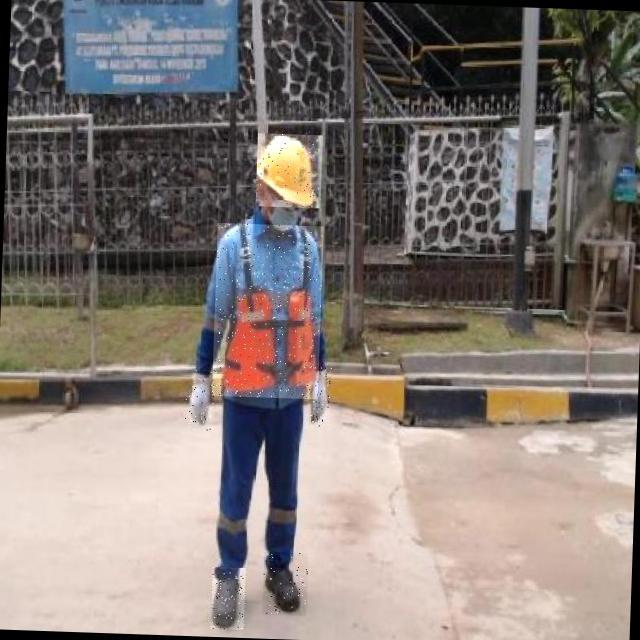Gloves: (178, 363, 220, 444), (306, 369, 340, 432)
Helmet: (255, 133, 324, 208)
Person: (170, 113, 358, 640)
Safety Boot: (262, 552, 308, 616), (211, 567, 247, 630)
Safety Vest: (212, 222, 324, 399)
